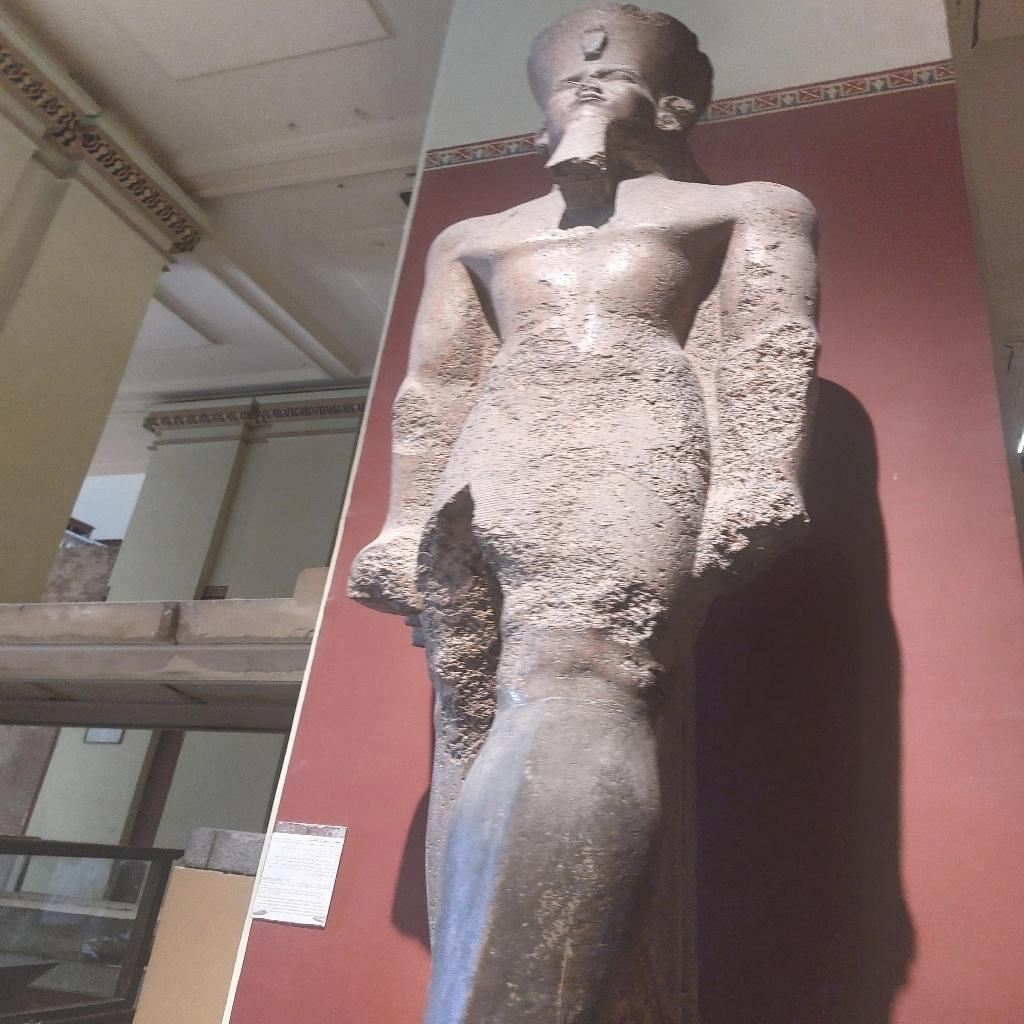Senwosret III: (337, 4, 828, 1020)
